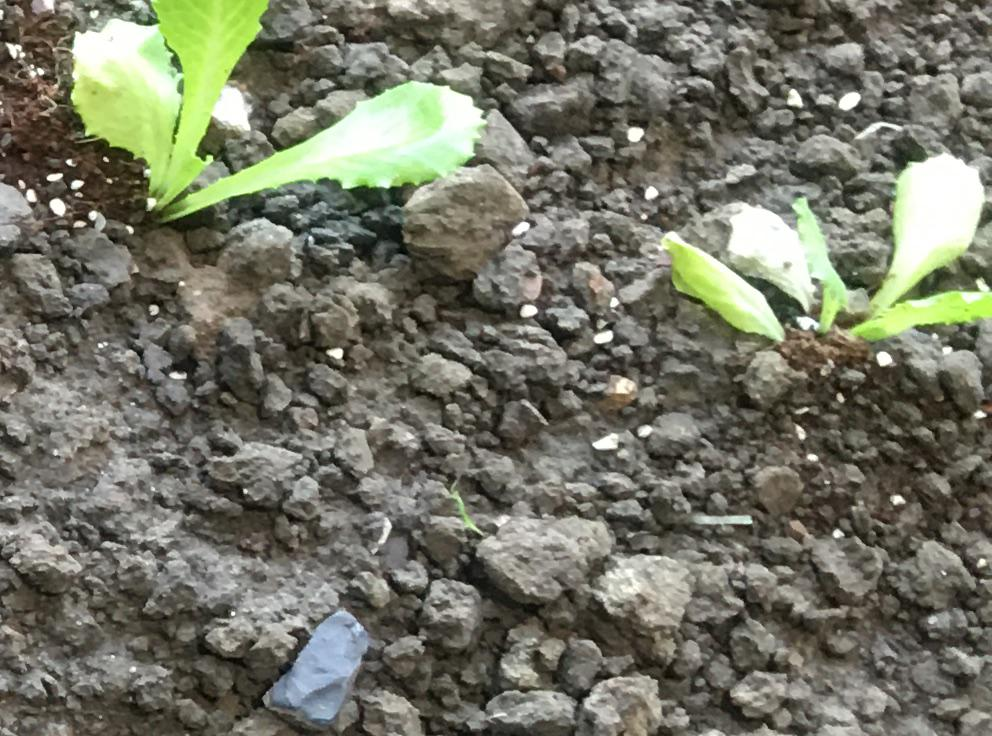block: (399, 156, 527, 283), (473, 513, 613, 609), (595, 549, 685, 665)
